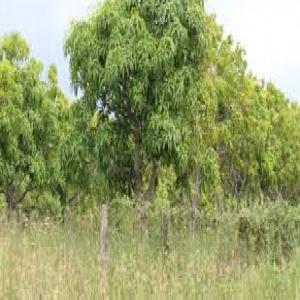Tree: (62, 0, 217, 271), (215, 22, 298, 221)
